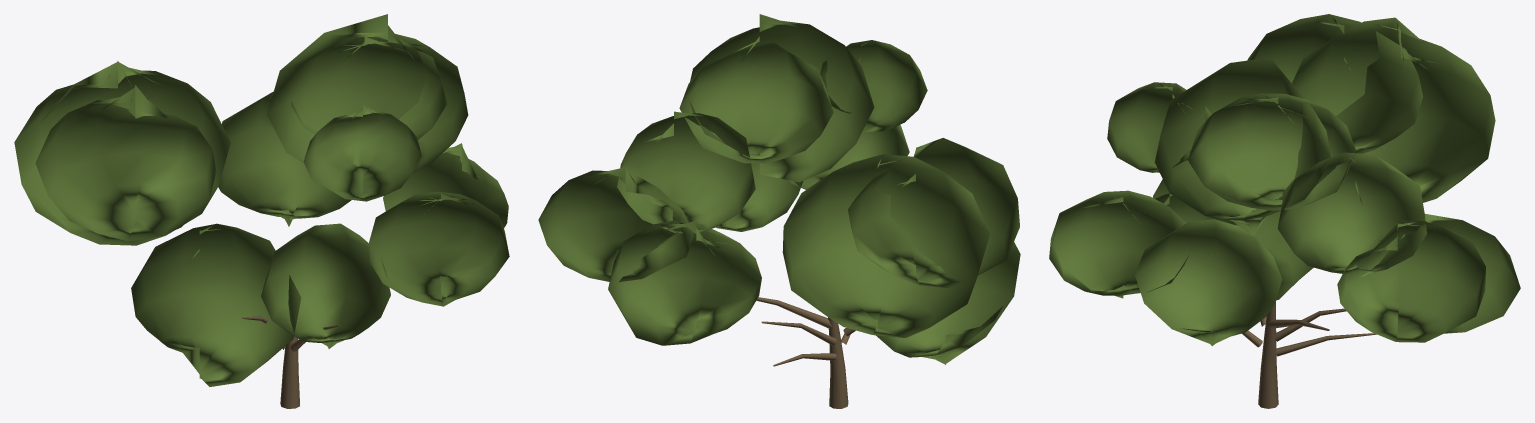
The model's file is field_willow_c_lod1.glb.
3 renders of one model, left to right at view 1: azimuth 30°, elevation 25°; view 2: azimuth 150°, elevation 25°; view 3: azimuth 270°, elevation 25°, orthographic. The views are drawn at different scales.
Parts seen in each view (by area): view 1: foliage, bark; view 2: foliage, bark; view 3: foliage, bark.
Part boxes in pixels (x1,y1,x2,y2): foliage: [14, 14, 509, 386]; bark: [242, 316, 339, 408]; foliage: [538, 14, 1020, 364]; bark: [756, 297, 855, 408]; foliage: [1049, 14, 1520, 346]; bark: [1241, 301, 1376, 408].
Size of the model in its own units: 7.84 by 6.45 by 7.33.
